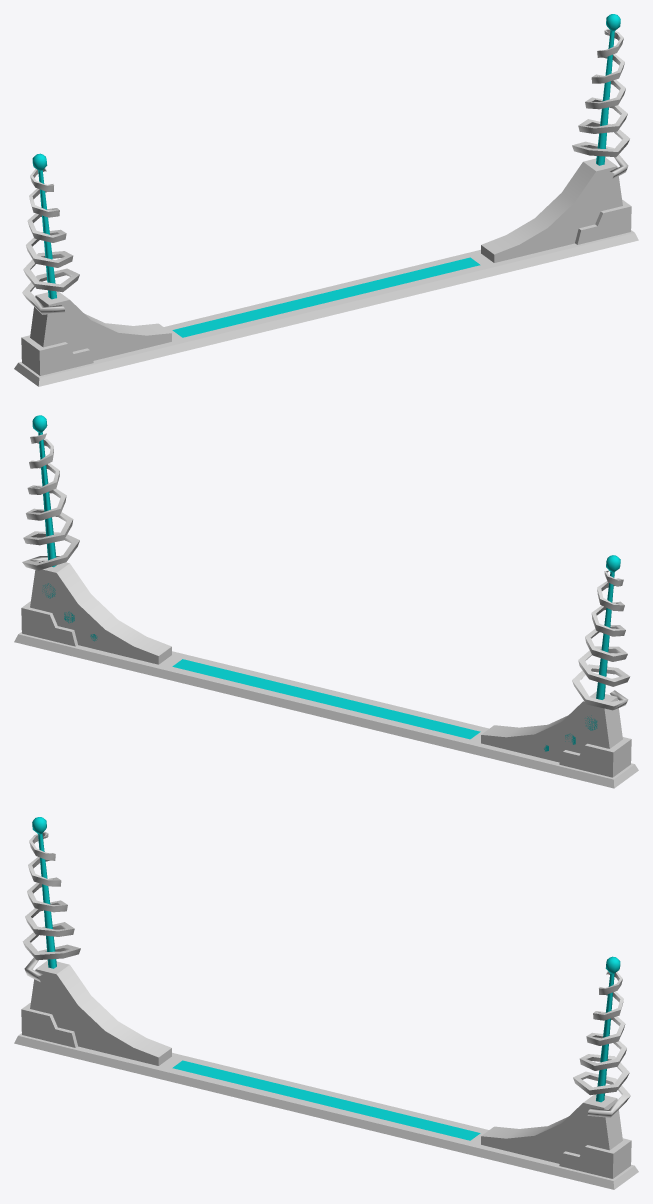
The model's file is obstacle-portal_poles_large_NoAtlas.glb.
3 renders of one model, top to bottom at view 1: azimuth 30°, elevation 25°; view 2: azimuth 150°, elevation 25°; view 3: azimuth 330°, elevation 25°, orthographic.
Visible parts, largest first — view 1: obstacle-portal_poles_large; view 2: obstacle-portal_poles_large; view 3: obstacle-portal_poles_large.
Part boxes in pixels (x1=…): obstacle-portal_poles_large: x1=14, y1=14, x2=638, y2=386; obstacle-portal_poles_large: x1=14, y1=415, x2=638, y2=788; obstacle-portal_poles_large: x1=14, y1=817, x2=638, y2=1189.
Bounding box in the file's own units: 9 × 3.16 × 0.7694.
